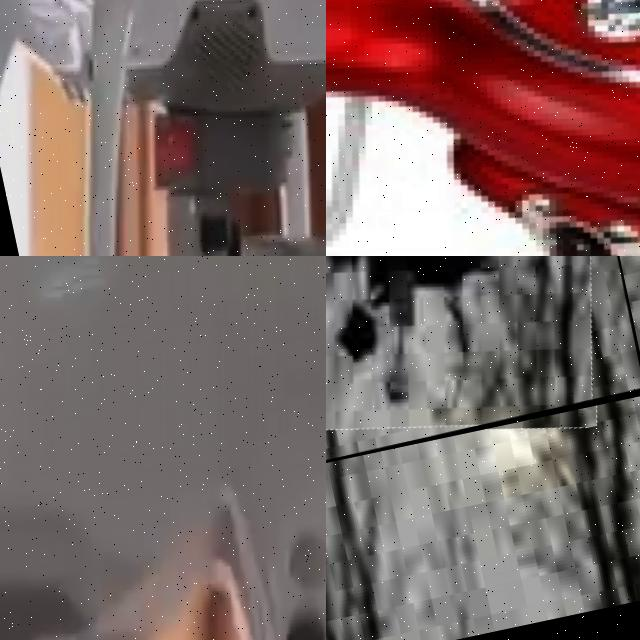0: (326, 256, 640, 499)
drone: (0, 256, 326, 640), (0, 0, 326, 256), (326, 0, 640, 256)
